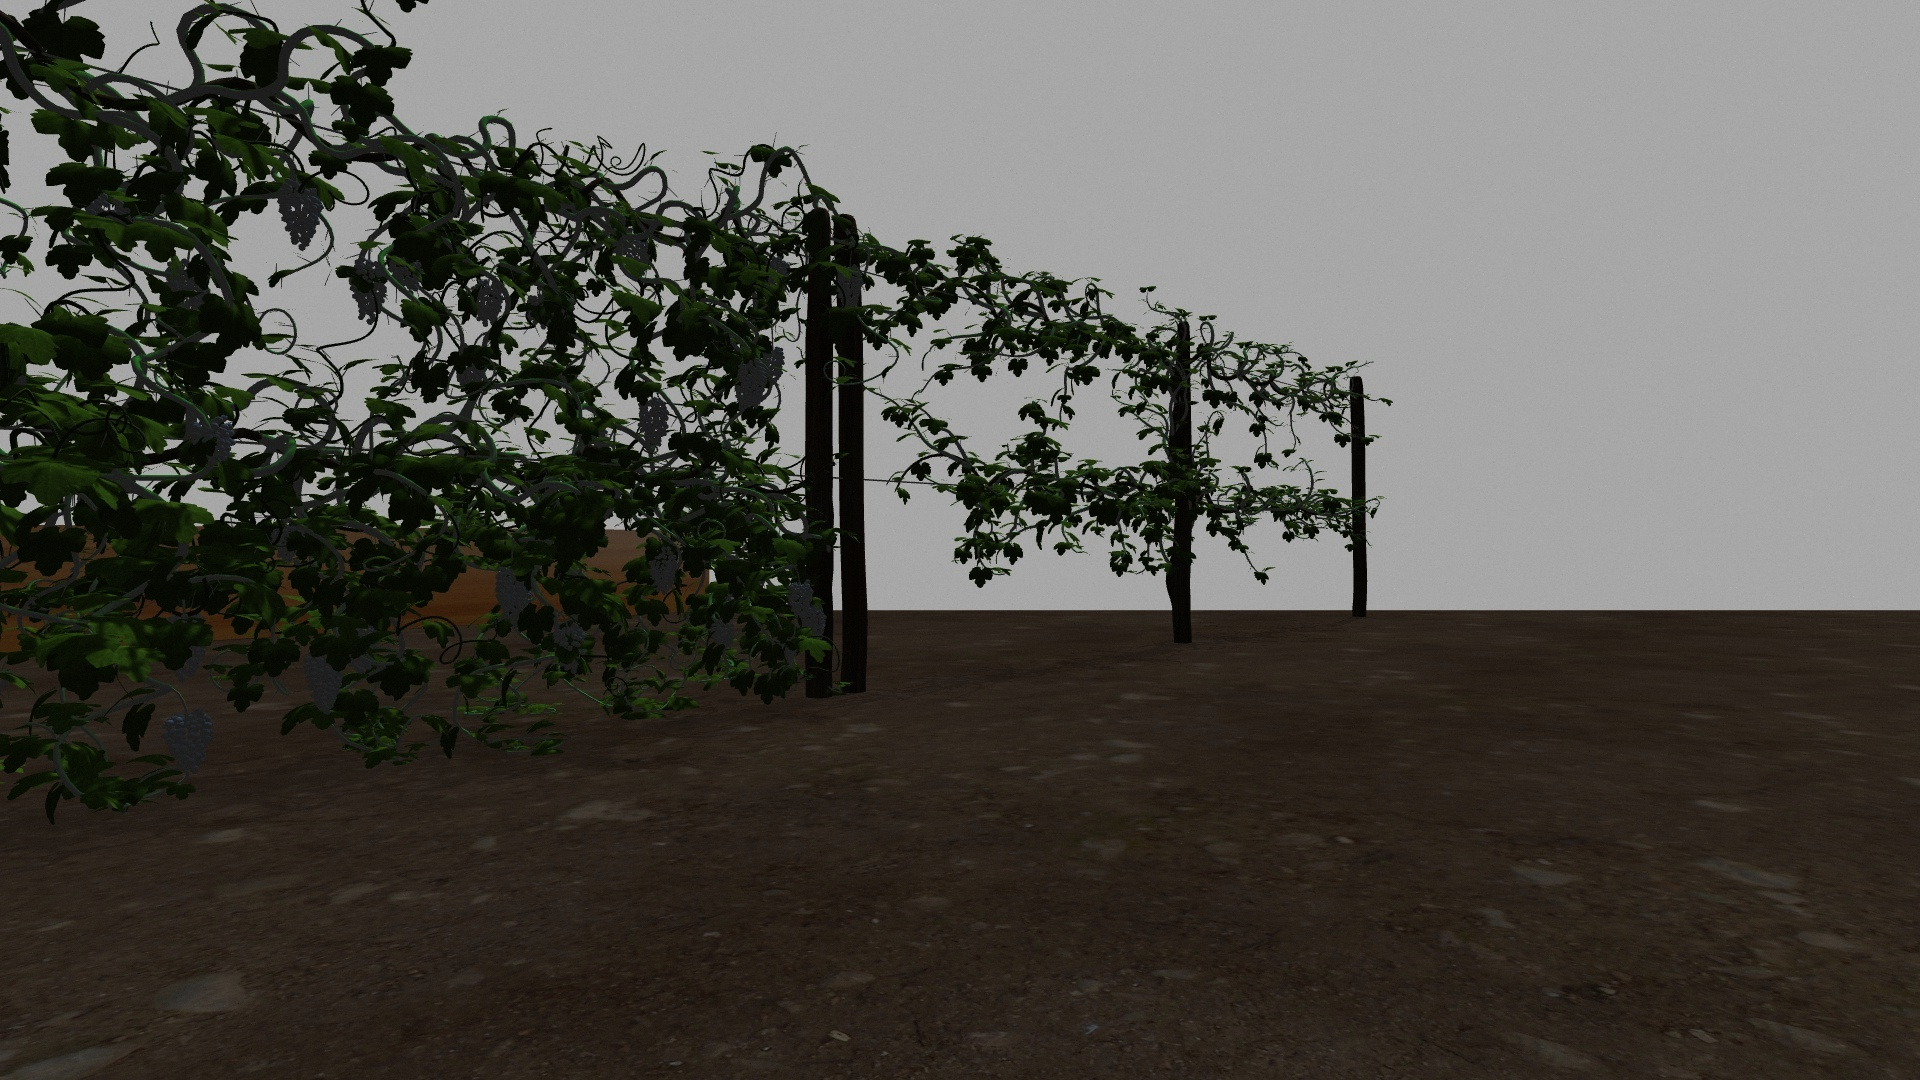grape: (160, 707, 212, 773), (276, 178, 322, 249), (299, 647, 344, 717), (183, 413, 236, 469), (349, 258, 386, 322), (495, 567, 531, 626), (553, 612, 583, 675), (638, 394, 671, 448), (735, 360, 766, 413), (469, 280, 506, 324), (833, 268, 866, 311), (757, 345, 785, 386), (650, 549, 675, 589), (785, 582, 814, 613), (800, 607, 827, 638), (709, 615, 735, 647)
